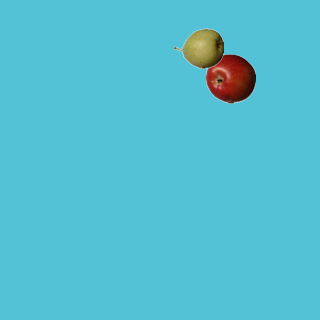Apple Braeburn: (205, 53, 255, 103)
Pear: (173, 23, 223, 73)
